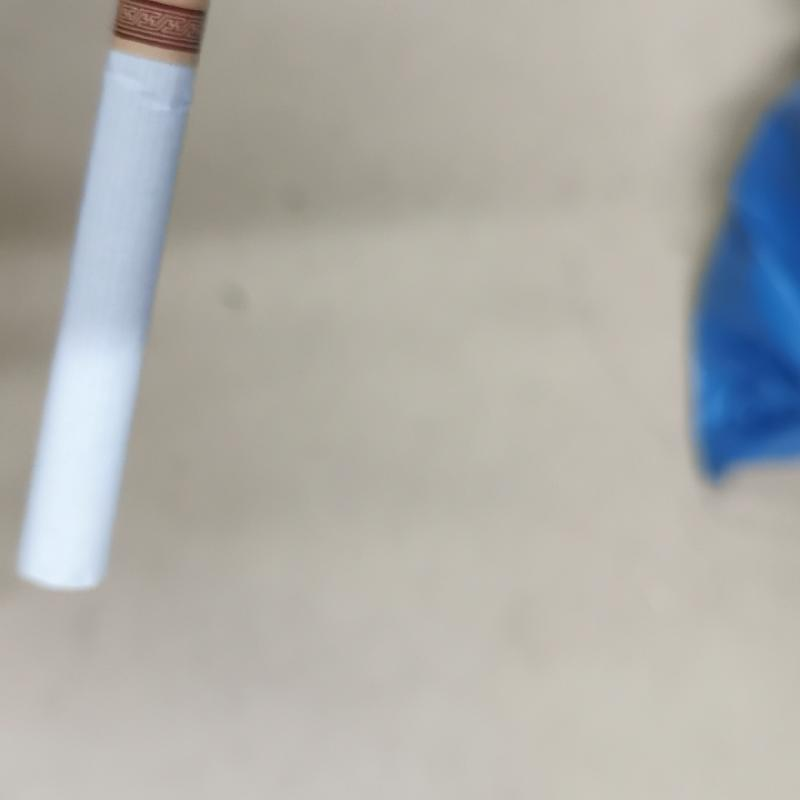cigarette: (15, 3, 209, 599)
